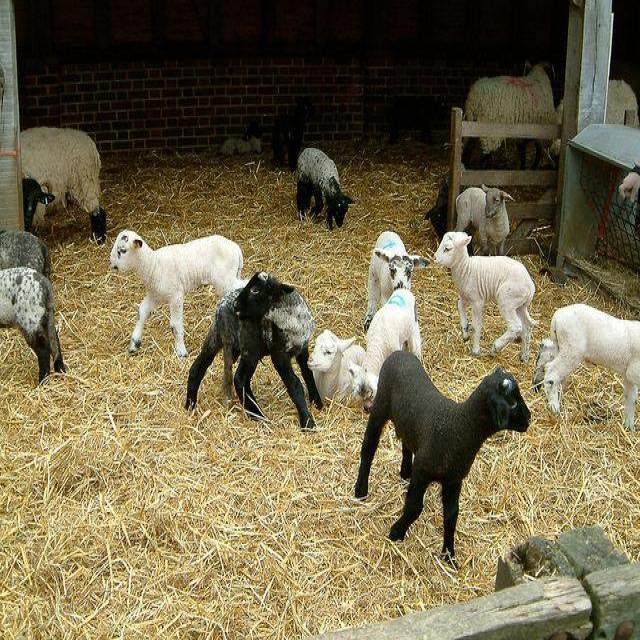Sheep: (0, 95, 455, 282), (356, 348, 537, 556), (183, 271, 323, 433), (110, 228, 249, 359), (426, 230, 542, 370), (533, 305, 639, 436), (20, 127, 107, 244), (470, 60, 560, 167), (349, 290, 421, 414), (0, 267, 67, 384), (365, 230, 430, 330), (297, 148, 355, 231), (309, 328, 367, 408), (454, 186, 515, 253)
